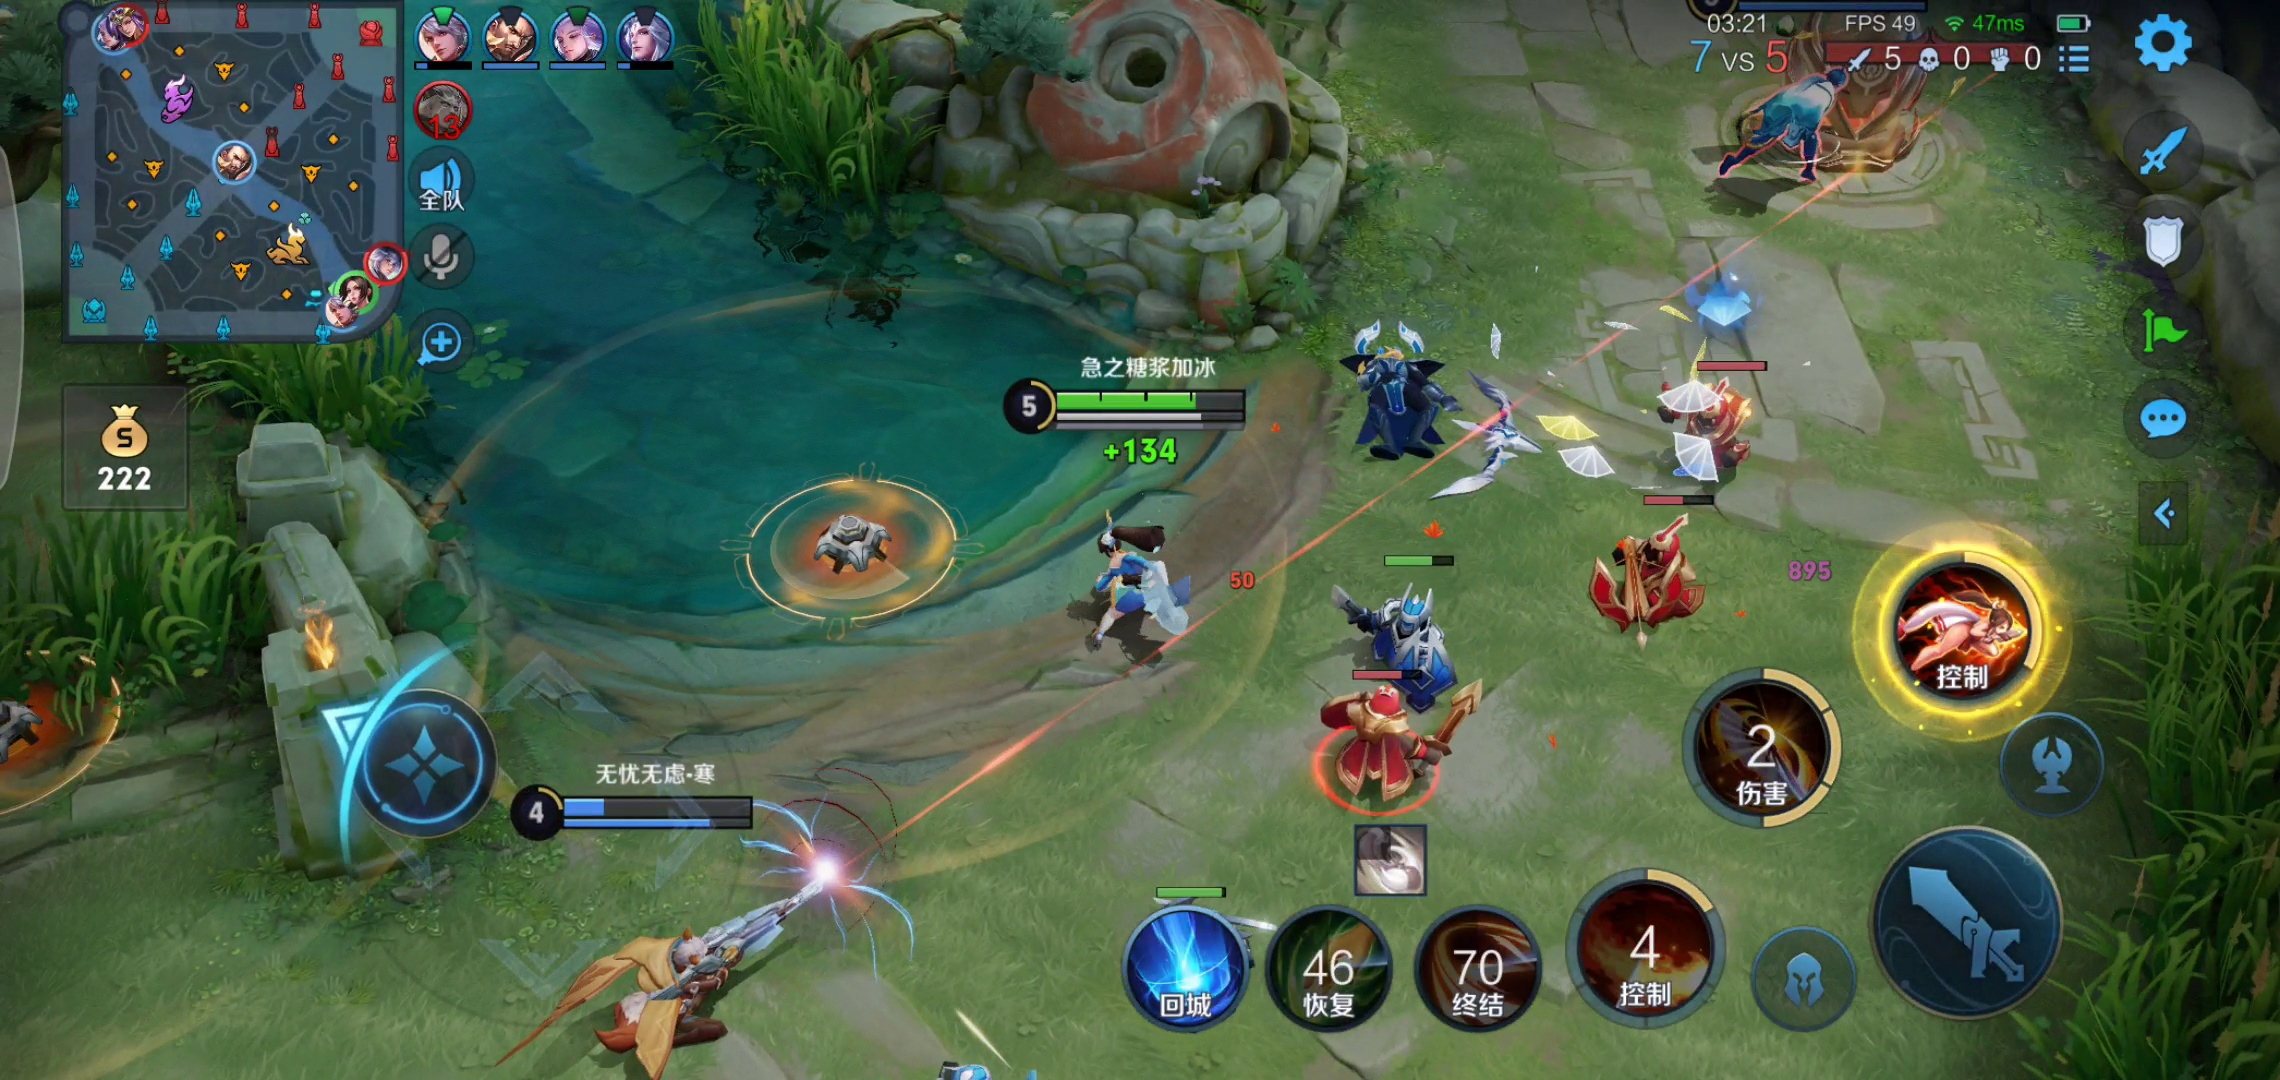grass: (2104, 536, 2271, 1080), (633, 1, 942, 254), (1, 528, 284, 683), (160, 317, 449, 448)
hero: (493, 861, 817, 1080), (1328, 307, 1512, 488), (1047, 512, 1205, 658), (1725, 65, 1861, 192)
soldier: (1322, 577, 1483, 708), (1306, 680, 1461, 805), (1589, 512, 1729, 640), (1653, 363, 1773, 485)
tower: (1777, 4, 1941, 172)
